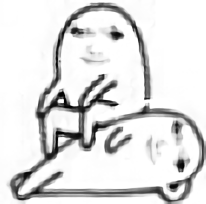dragon: (143, 118, 190, 174), (69, 25, 127, 65)
